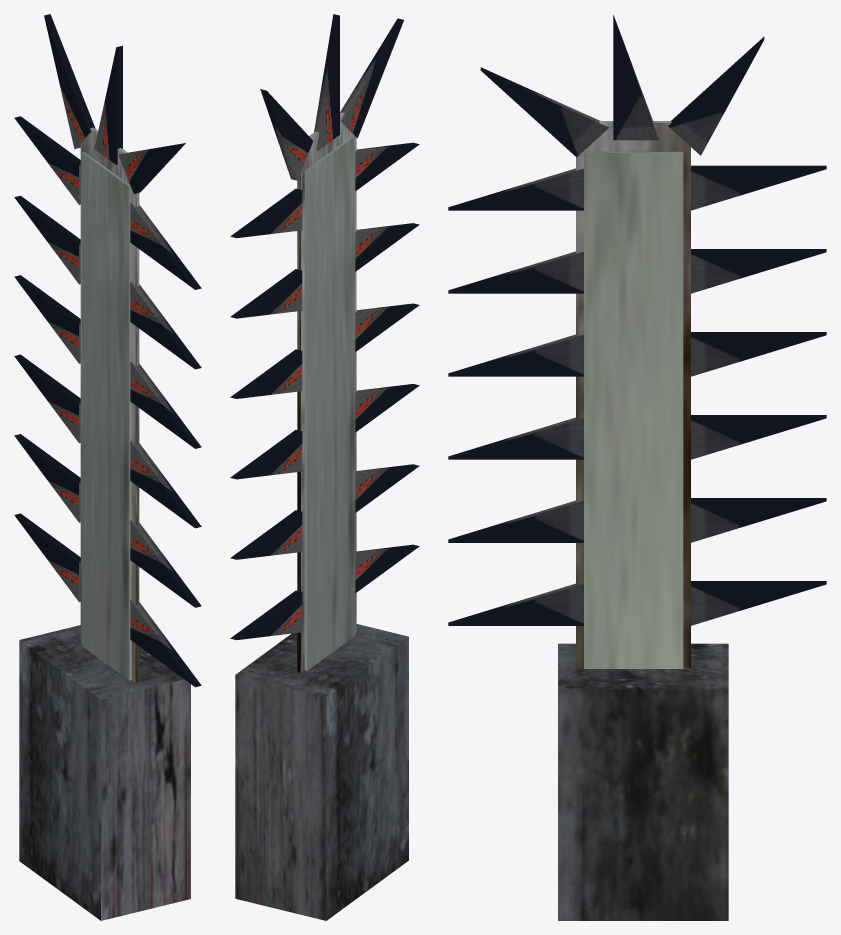
File: mimita-chainsaw-v1.glb
3 renders of one model, left to right at view 1: azimuth 30°, elevation 25°; view 2: azimuth 150°, elevation 25°; view 3: azimuth 270°, elevation 25°, orthographic. The views are drawn at different scales.
Parts seen in each view (by area): view 1: chainsaw.002; view 2: chainsaw.002; view 3: chainsaw.002.
Boxes of the visible parts, x1,y1,x2,y2 form: chainsaw.002: (14, 14, 201, 920); chainsaw.002: (230, 14, 419, 920); chainsaw.002: (448, 15, 826, 920).
Bounding box in the file's own units: 0.342 × 3.07 × 1.19.
4 materials, 4 textured.
